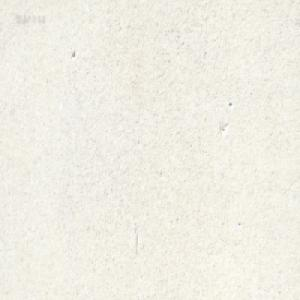Wrench: (139, 0, 145, 4)
